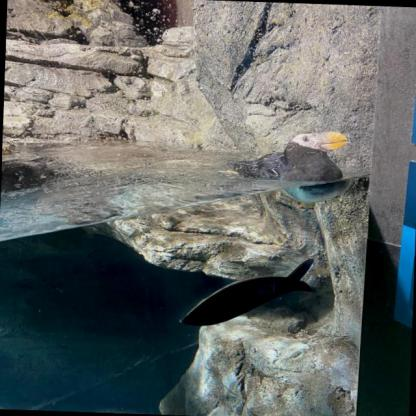puffin: (226, 126, 349, 204)
